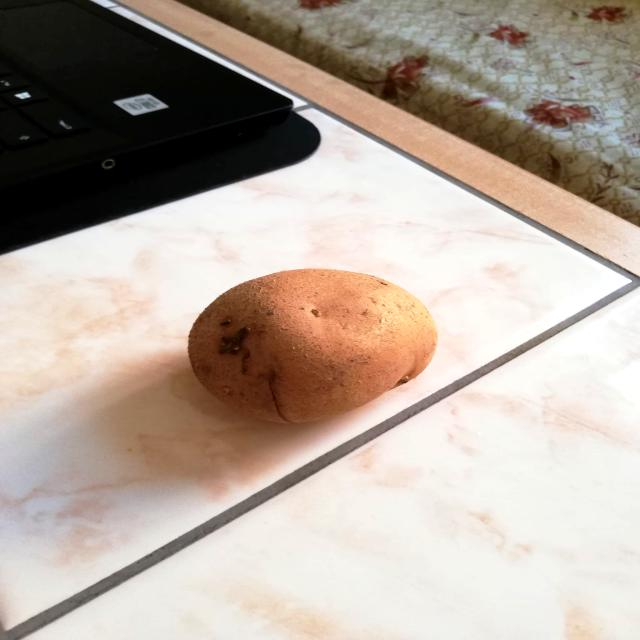potato: (178, 264, 444, 430)
